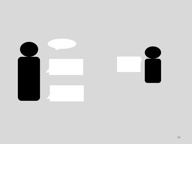left_oneway: (44, 55, 86, 78), (43, 82, 86, 103)
left_speech: (44, 35, 80, 52)
right_oneway: (114, 52, 144, 75)
